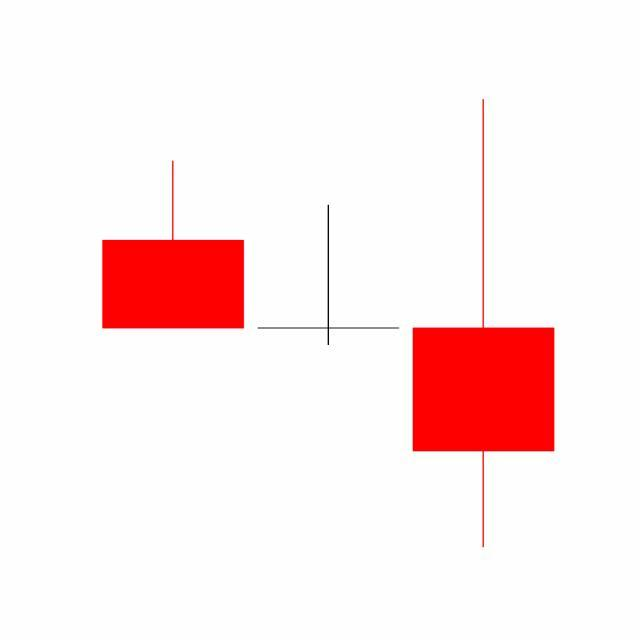Gravestone Doji: (250, 204, 407, 348)
